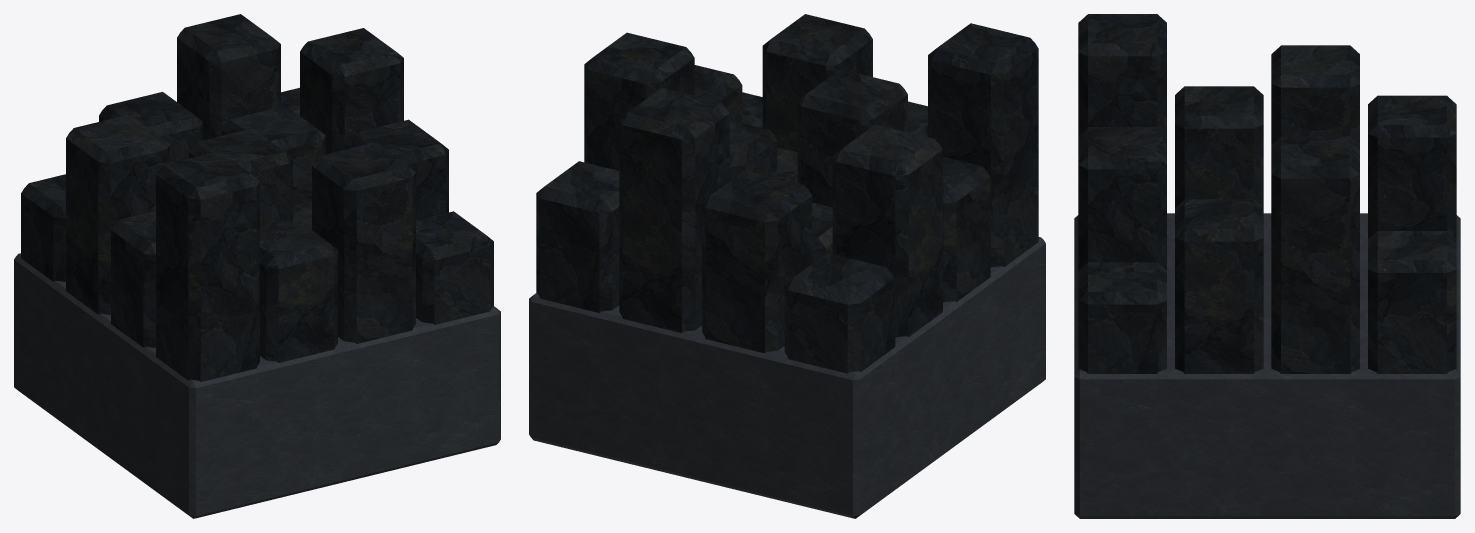
The model's file is train_coal_load.gltf.
The picture shows the model from 3 angles, left to right: view 1: azimuth 30°, elevation 25°; view 2: azimuth 150°, elevation 25°; view 3: azimuth 270°, elevation 25°; orthographic projection. The views are drawn at different scales.
Size of the model in its own units: 1 by 1 by 1.
2 materials, 2 textured.
